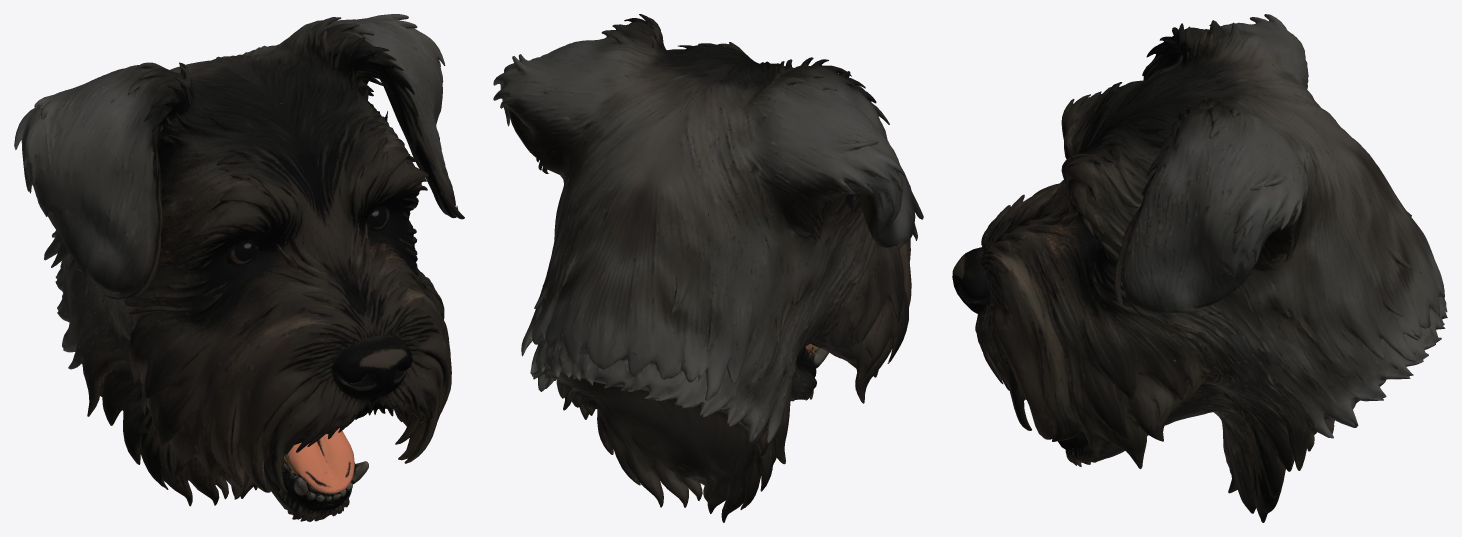
The model's file is shlompi.glb.
3 renders of one model, left to right at view 1: azimuth 30°, elevation 25°; view 2: azimuth 150°, elevation 25°; view 3: azimuth 270°, elevation 25°, orthographic. The views are drawn at different scales.
Visible parts, largest first — view 1: Shlompi; view 2: Shlompi; view 3: Shlompi.
Part boxes in pixels (box(x1,y1,x2,y2)): Shlompi: box(14, 14, 464, 521); Shlompi: box(493, 14, 923, 522); Shlompi: box(952, 14, 1447, 522).
Size of the model in its own units: 1.73 by 1.87 by 1.9.
Materials: 1 (1 with a texture image).
